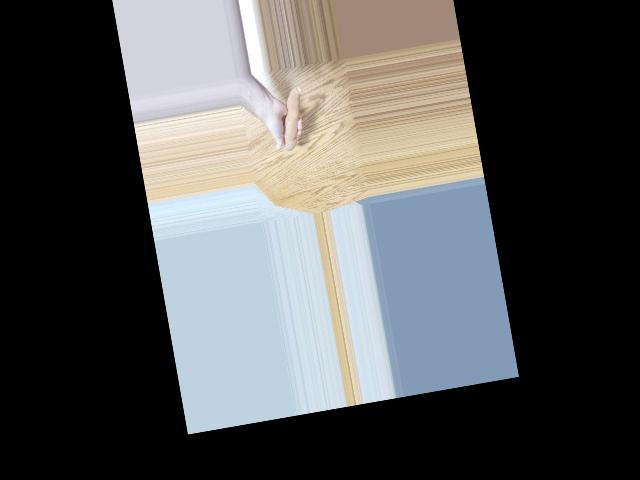sweet_potato: (274, 87, 301, 152)
